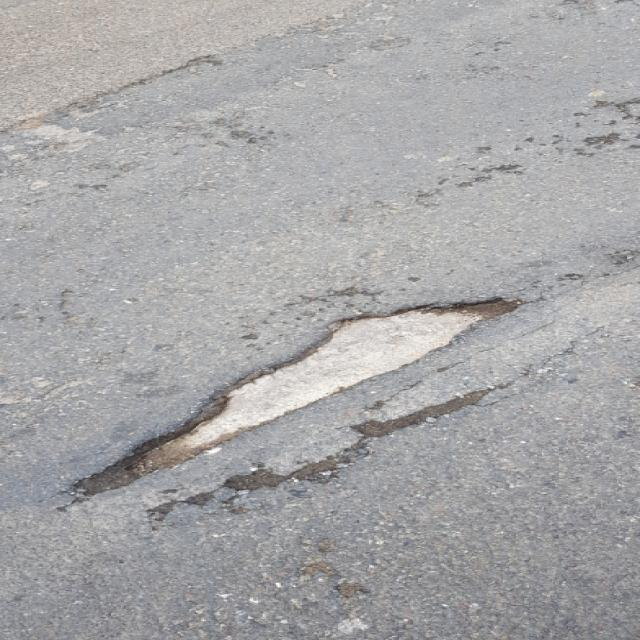pothole: (44, 292, 537, 508)
